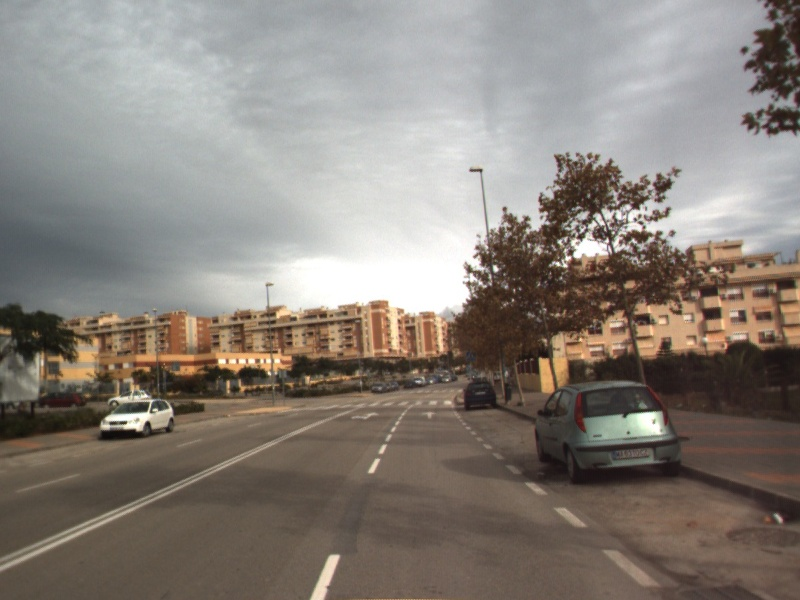STRAIGHT: (419, 408, 439, 421)
STRAIGHT_LEFT: (349, 410, 382, 422)
